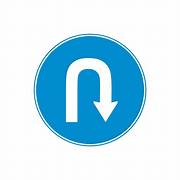back: (56, 55, 126, 130)
